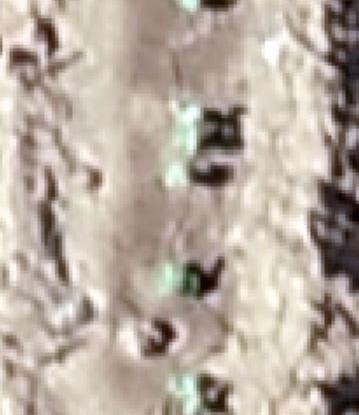cotton: (170, 374, 199, 415), (171, 103, 200, 129), (164, 264, 188, 292), (164, 162, 189, 185), (177, 132, 199, 153), (177, 1, 199, 11)
